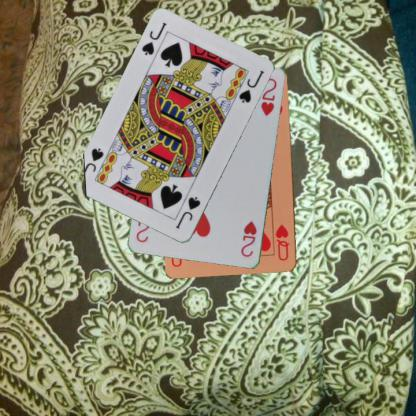2h: (239, 219, 258, 259)
Js: (173, 194, 202, 231), (139, 20, 168, 57)
Qh: (273, 222, 291, 262)
